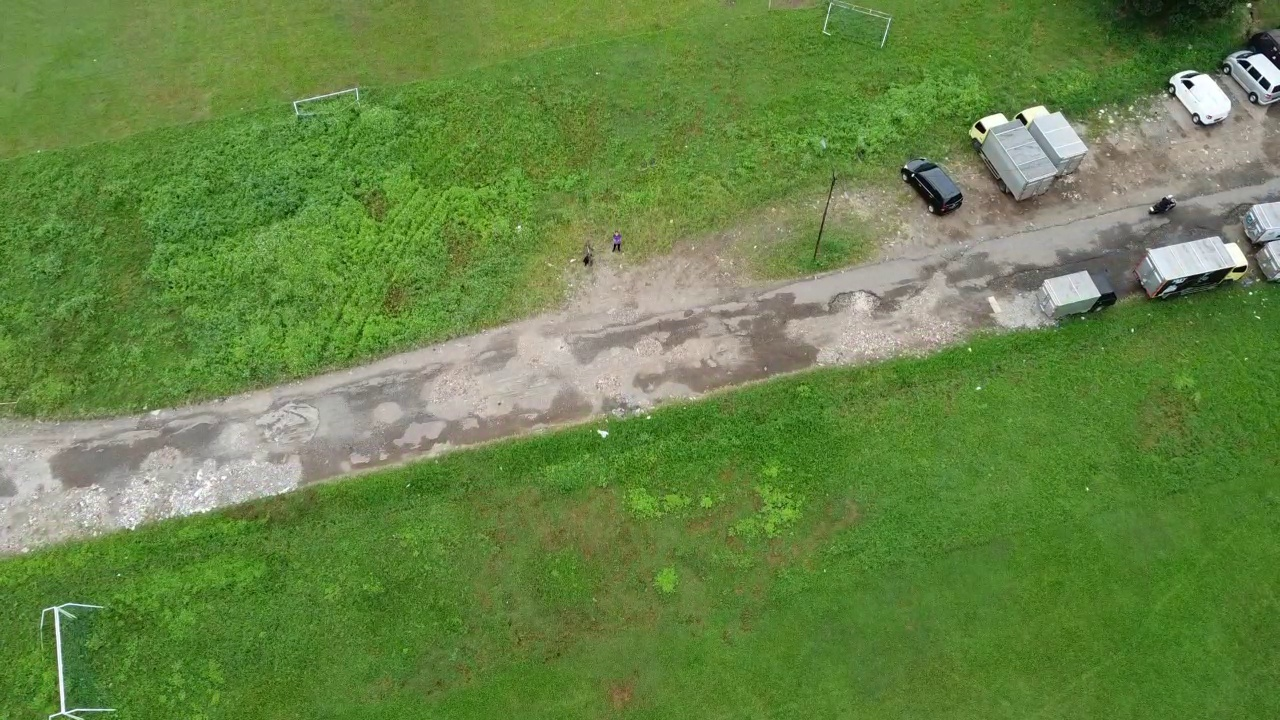mobil: (894, 148, 976, 221), (1167, 68, 1239, 139), (1218, 40, 1280, 106)
